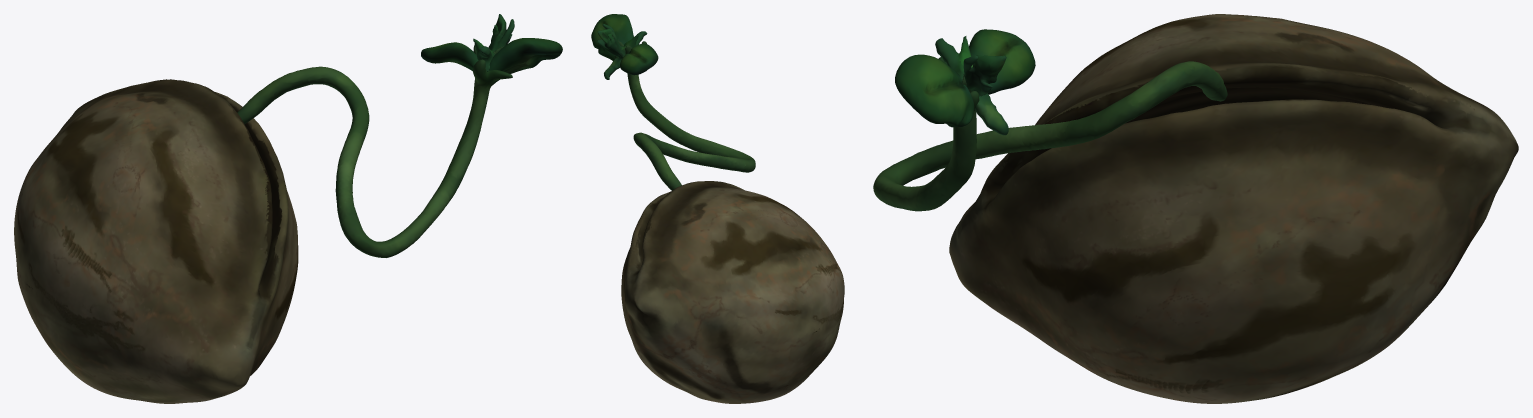
The model's file is Seed.glb.
3 renders of one model, left to right at view 1: azimuth 30°, elevation 25°; view 2: azimuth 150°, elevation 25°; view 3: azimuth 270°, elevation 25°, orthographic. The views are drawn at different scales.
Visible parts, largest first — view 1: Layer_1, Layer_5, Layer_3, Layer_2, Layer_4; view 2: Layer_1, Layer_5, Layer_3, Layer_4, Layer_2; view 3: Layer_1, Layer_5, Layer_3, Layer_4, Layer_2.
Boxes of the visible parts, box(x1,y1,x2,y2) form: Layer_1: box(14, 79, 298, 403); Layer_5: box(237, 45, 512, 257); Layer_3: box(486, 38, 562, 85); Layer_2: box(421, 42, 478, 71); Layer_4: box(473, 14, 514, 71); Layer_1: box(621, 181, 844, 403); Layer_5: box(614, 39, 755, 190); Layer_3: box(591, 14, 633, 60); Layer_4: box(596, 24, 647, 79); Layer_2: box(620, 43, 658, 75); Layer_1: box(949, 14, 1518, 403); Layer_5: box(873, 57, 1227, 211); Layer_3: box(895, 54, 974, 127); Layer_4: box(935, 36, 1008, 135); Layer_2: box(969, 29, 1035, 94).
Size of the model in its own units: 0.1096 by 0.0924 by 0.1045.
